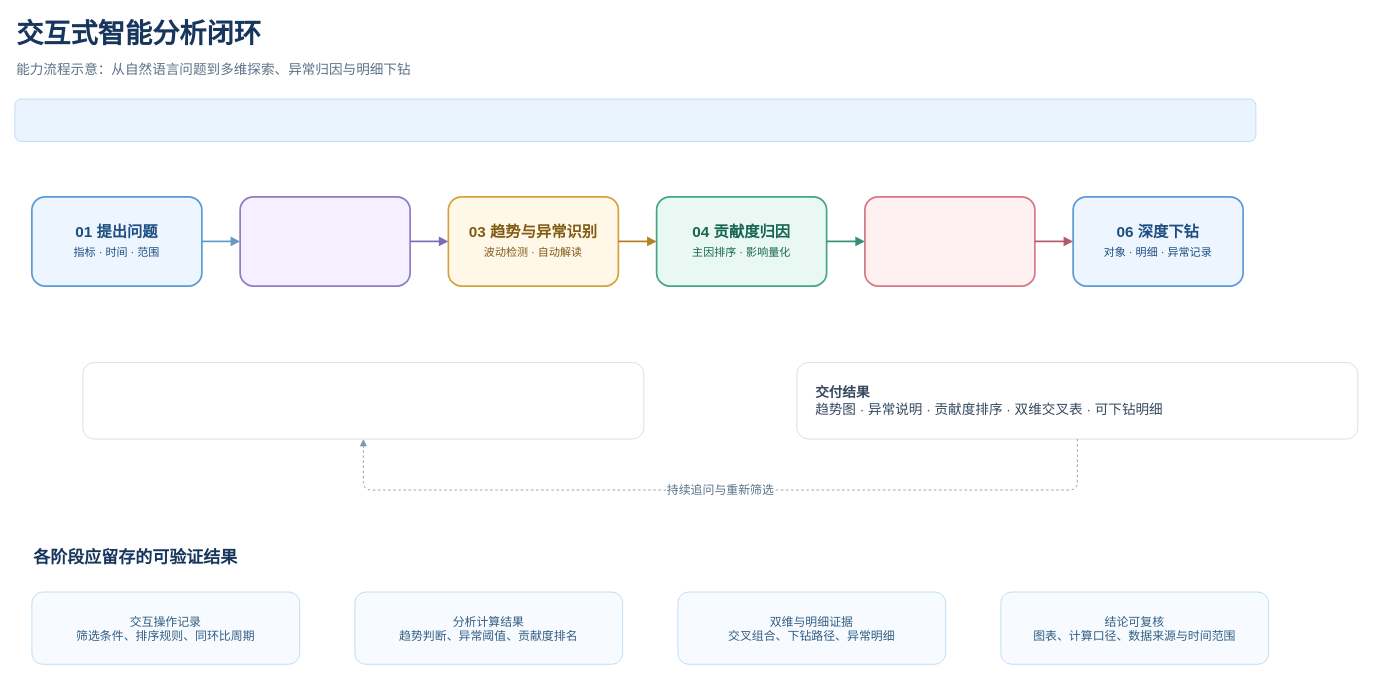
Image size: 1373x679. Some labels were removed from this diagram. Each missing label, with the box of its shape:
02 多维交互分析 筛选 · 排序 · 同环比: (239, 196, 411, 286)
05 双维组合分析 维度 A × 维度 B: (864, 196, 1035, 286)
业务人员无需编写查询语句，可沿同一分析路径持续追问、对比、定位和复核: (14, 98, 1256, 142)
示例问题 “某项指标本月为何下降？请按区域和产品类型继续分析。”: (82, 362, 644, 439)
